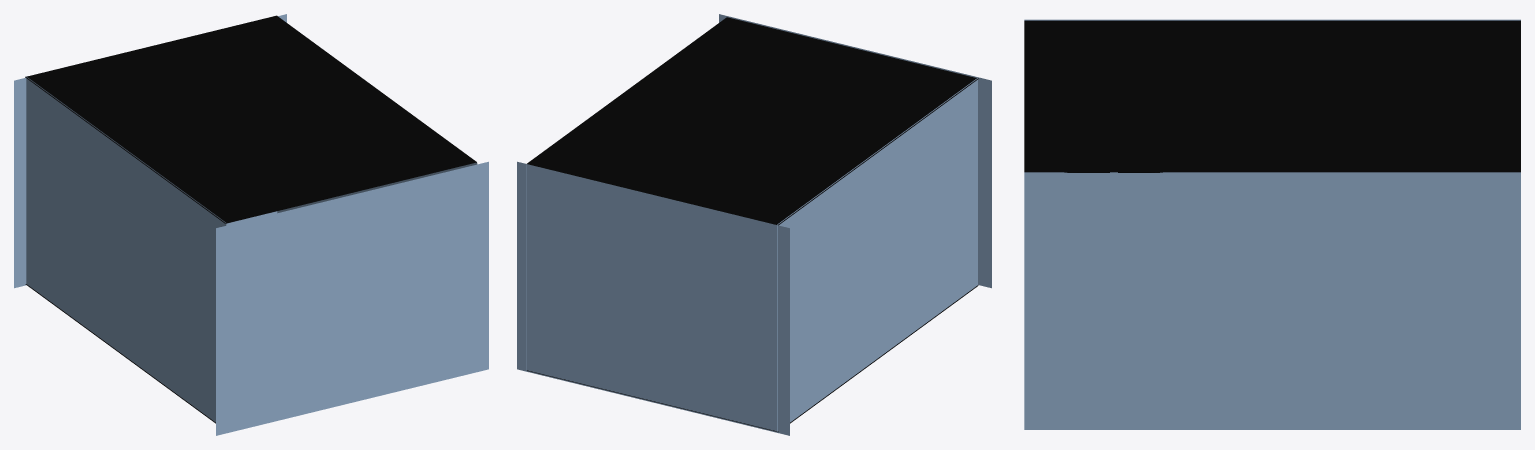
Rendered from Table.glb.
3 views of the same model, side by side, from view 1: azimuth 30°, elevation 25°; view 2: azimuth 150°, elevation 25°; view 3: azimuth 270°, elevation 25° (orthographic). The views are drawn at different scales.
Visible parts, largest first — view 1: Plane.005, Plane.001, Plane.002, Plane.004, Plane.003; view 2: Plane.004, Plane.001, Plane.002, Plane.005, Plane; view 3: Plane.003, Plane.001, Plane.002.
Part boxes in pixels (x1=…): Plane.005: x1=216, y1=161, x2=488, y2=435; Plane.001: x1=25, y1=15, x2=476, y2=223; Plane.002: x1=25, y1=76, x2=226, y2=422; Plane.004: x1=14, y1=14, x2=286, y2=288; Plane.003: x1=277, y1=162, x2=477, y2=213; Plane.004: x1=517, y1=161, x2=789, y2=435; Plane.001: x1=527, y1=17, x2=978, y2=225; Plane.002: x1=777, y1=78, x2=977, y2=431; Plane.005: x1=719, y1=14, x2=991, y2=288; Plane: x1=527, y1=285, x2=978, y2=431; Plane.003: x1=1024, y1=173, x2=1520, y2=429; Plane.001: x1=1024, y1=20, x2=1520, y2=172; Plane.002: x1=1024, y1=19, x2=1520, y2=172.
Bounding box in the file's own units: 5.5 × 4.03 × 7.06.
